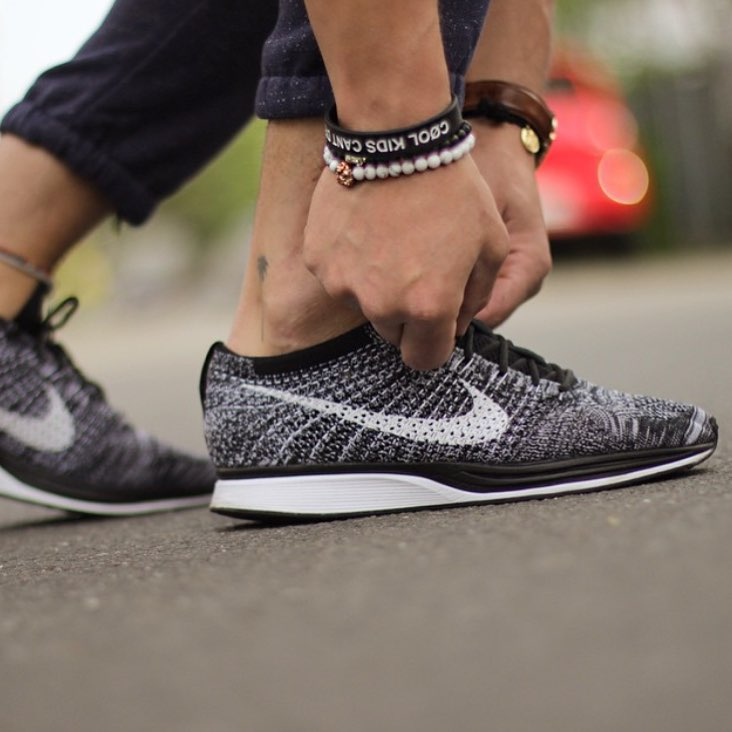sneaker: (174, 263, 732, 550), (1, 269, 241, 531)
